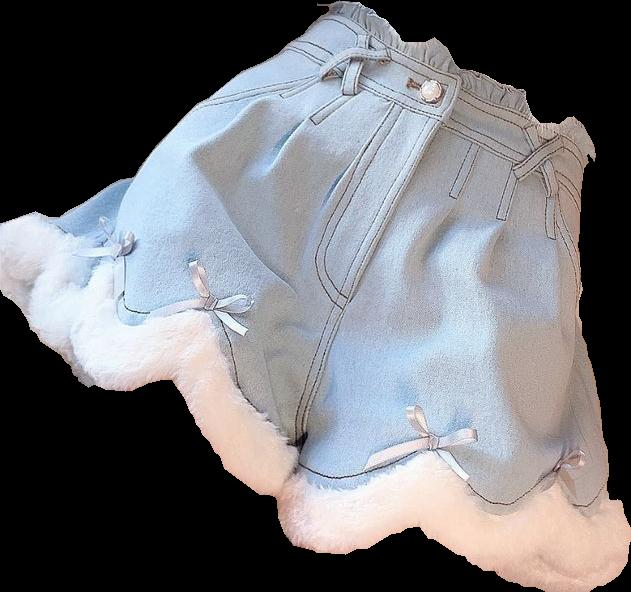Hemline: (0, 251, 278, 496), (273, 499, 627, 582)
Pantleg: (0, 1, 464, 496), (274, 65, 630, 591)
Waistline: (52, 219, 305, 457), (285, 42, 583, 201), (329, 11, 594, 164), (327, 0, 590, 137), (297, 446, 609, 509)
